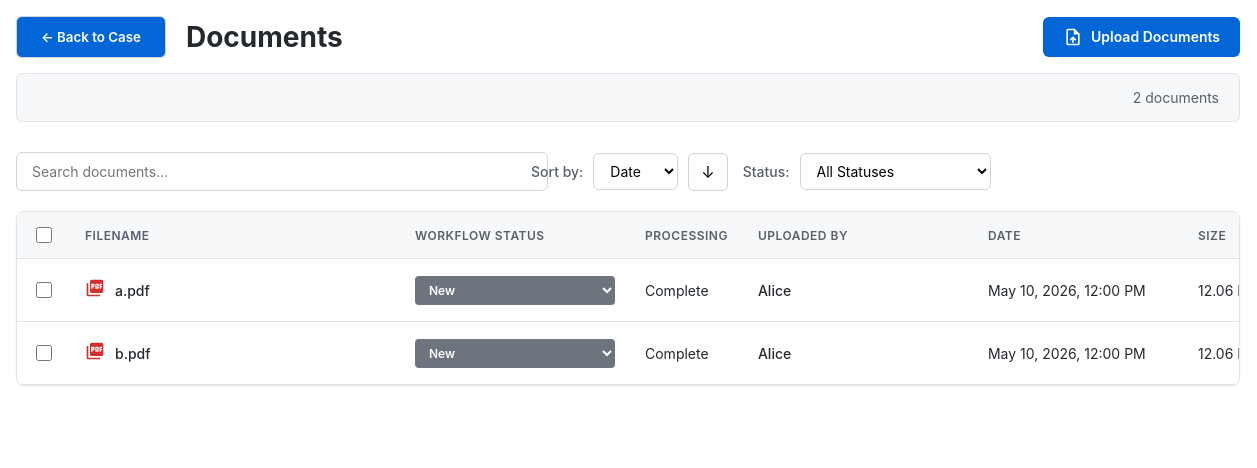
Scenario: CaseDocuments — selection and bulk actions › selects/deselects via row checkboxes and shows bulk-action bar
Expected: the text "a.pdf" is shown, [115,282,150,298]
// checkboxes[0] is the select-all header
Click the checkbox next to "a.pdf": coordinates (44, 290) [36,282,52,298]
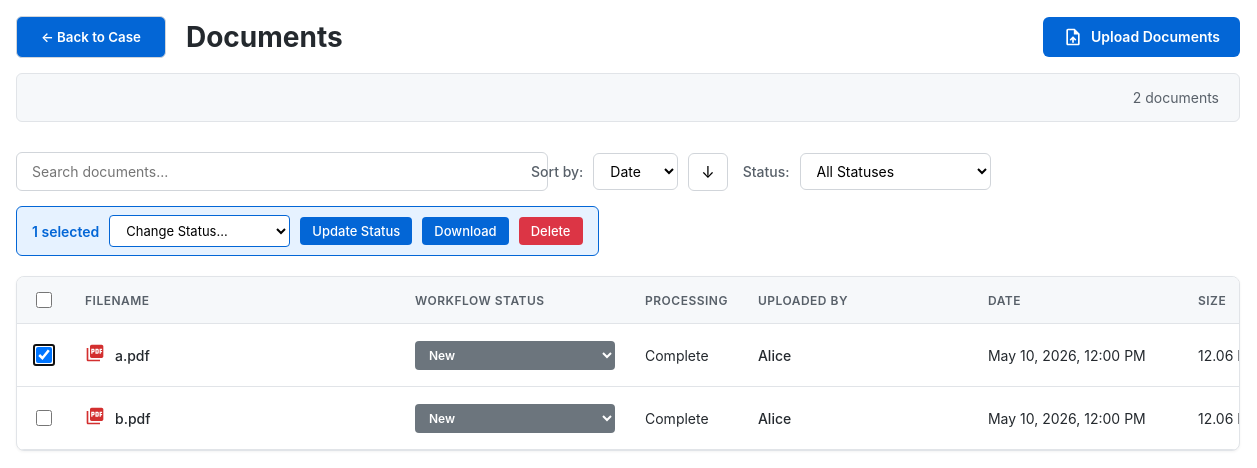
Expected: the text "1 selected" is shown, [32,222,99,240]
Click the checkbox next to "a.pdf": coordinates (44, 355) [36,347,52,363]
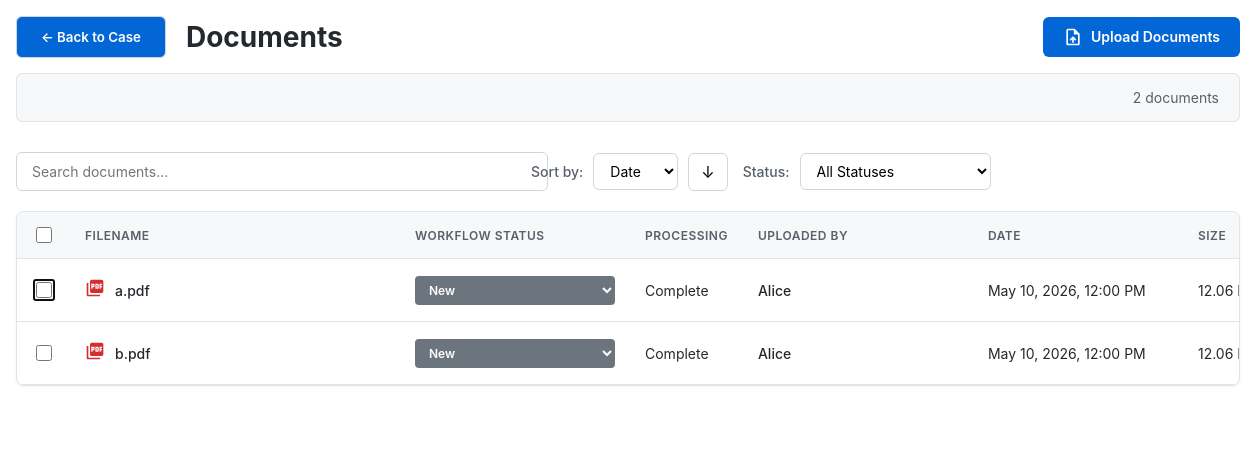
Expected: the text "1 selected" is gone
